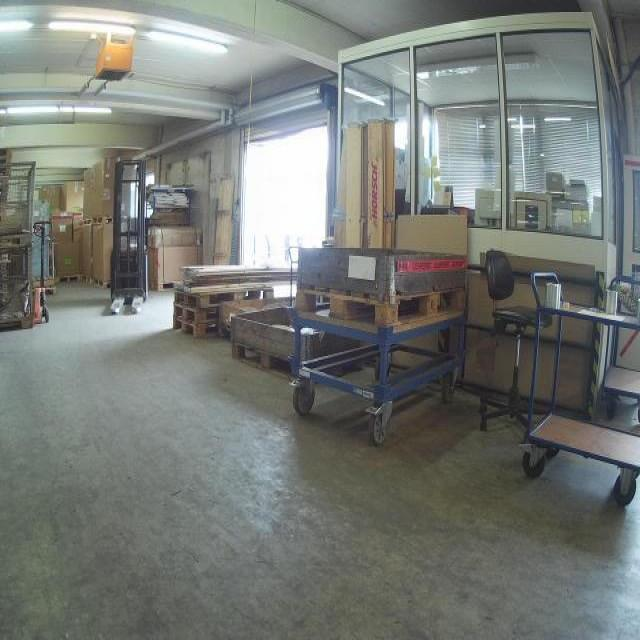pallet: (293, 280, 468, 336), (228, 342, 364, 382), (173, 286, 275, 311), (172, 300, 221, 323), (172, 318, 220, 340), (149, 279, 175, 290), (94, 275, 113, 289), (94, 212, 114, 225), (59, 273, 80, 284), (80, 275, 91, 284), (83, 217, 92, 225)
pallet_truck: (100, 154, 158, 318), (26, 216, 58, 324)
stillage: (1, 237, 36, 337), (1, 160, 40, 245)
